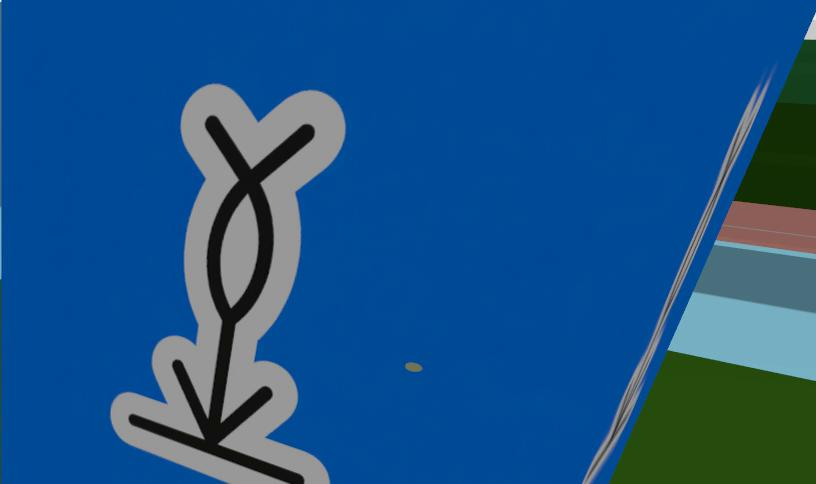KFS_REAL: (0, 0, 808, 484), (110, 84, 344, 484)
